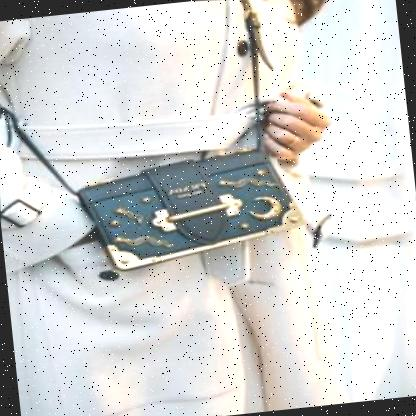bag: (60, 131, 310, 290)
